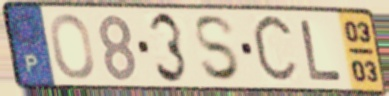3: (146, 11, 191, 86)
8: (96, 12, 139, 83)
C: (249, 11, 301, 89)
L: (297, 18, 345, 83)
O: (48, 12, 97, 82)
S: (191, 13, 244, 84)
